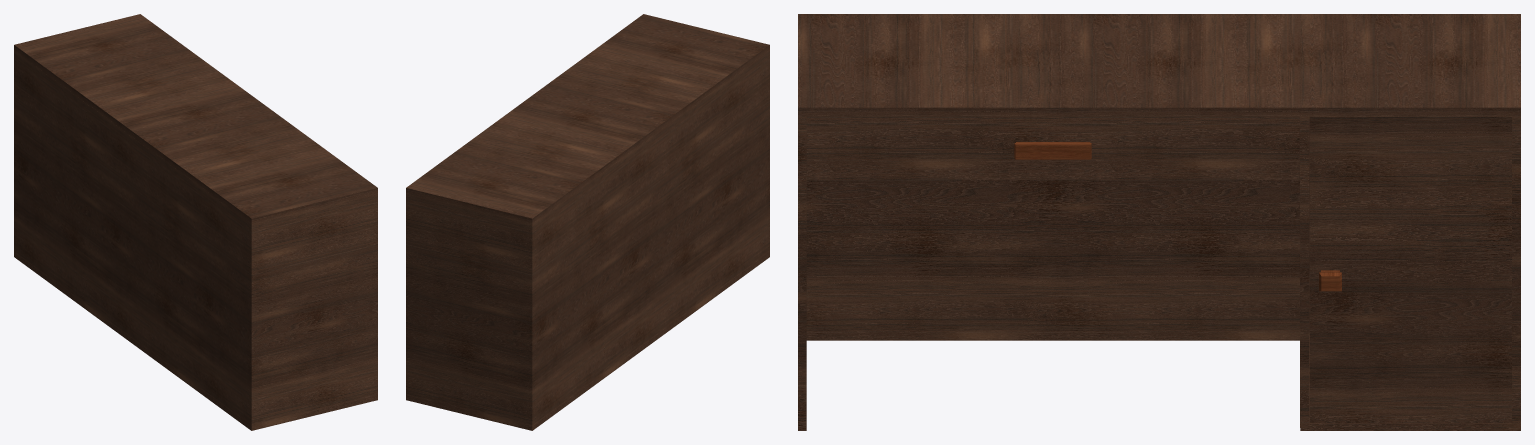
The model's file is Cabinet.fbx.
The picture shows the model from 3 angles, left to right: view 1: azimuth 30°, elevation 25°; view 2: azimuth 150°, elevation 25°; view 3: azimuth 270°, elevation 25°; orthographic projection. The views are drawn at different scales.
Parts seen in each view (by area): view 1: CabinetBody; view 2: CabinetBody; view 3: CabinetBody, CabinetDoor, CabinetDrawer.
Part boxes in pixels (<box>): CabinetBody: <box>14,14,377,430</box>; CabinetBody: <box>406,14,769,430</box>; CabinetBody: <box>798,14,1520,430</box>; CabinetDoor: <box>1309,116,1511,422</box>; CabinetDrawer: <box>806,116,1299,179</box>.
Size of the model in its own units: 83.33 by 127 by 256.
